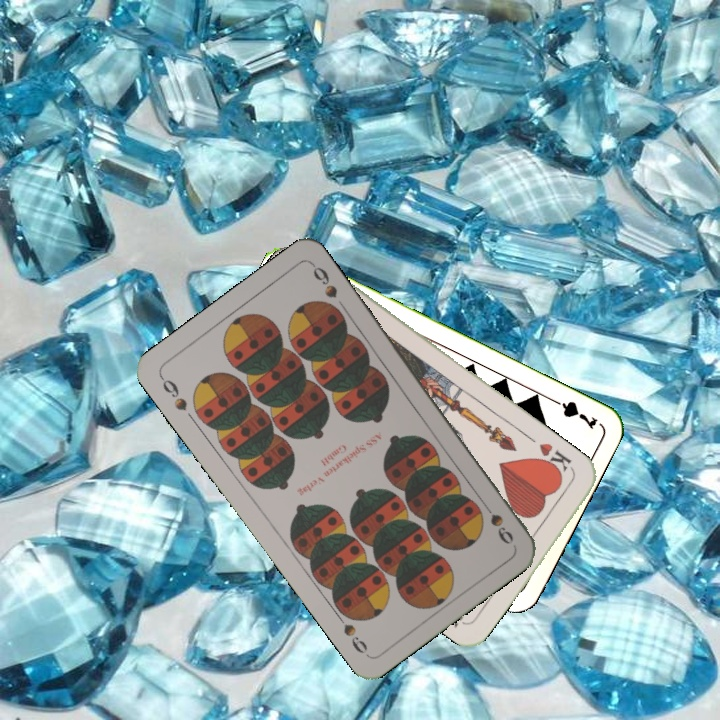G7: (545, 393, 600, 432)
HK: (533, 438, 577, 479)
S9: (476, 495, 517, 547), (156, 372, 190, 414)
